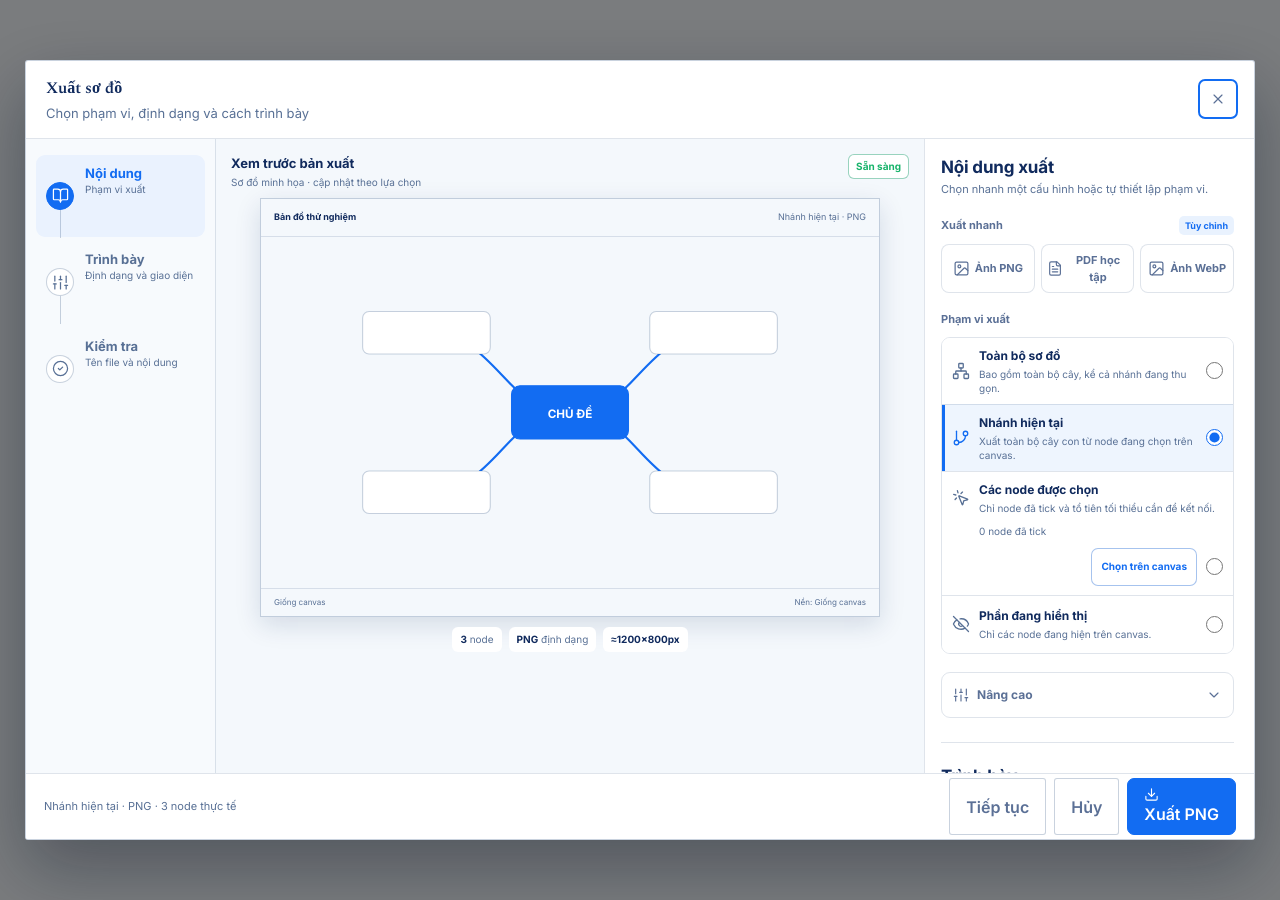
Test: Export Studio UX v2 › keeps visible-only semantics under Advanced instead of deleting it
Click the button "Nâng cao": click(1005, 694) [942,673,1233,717]
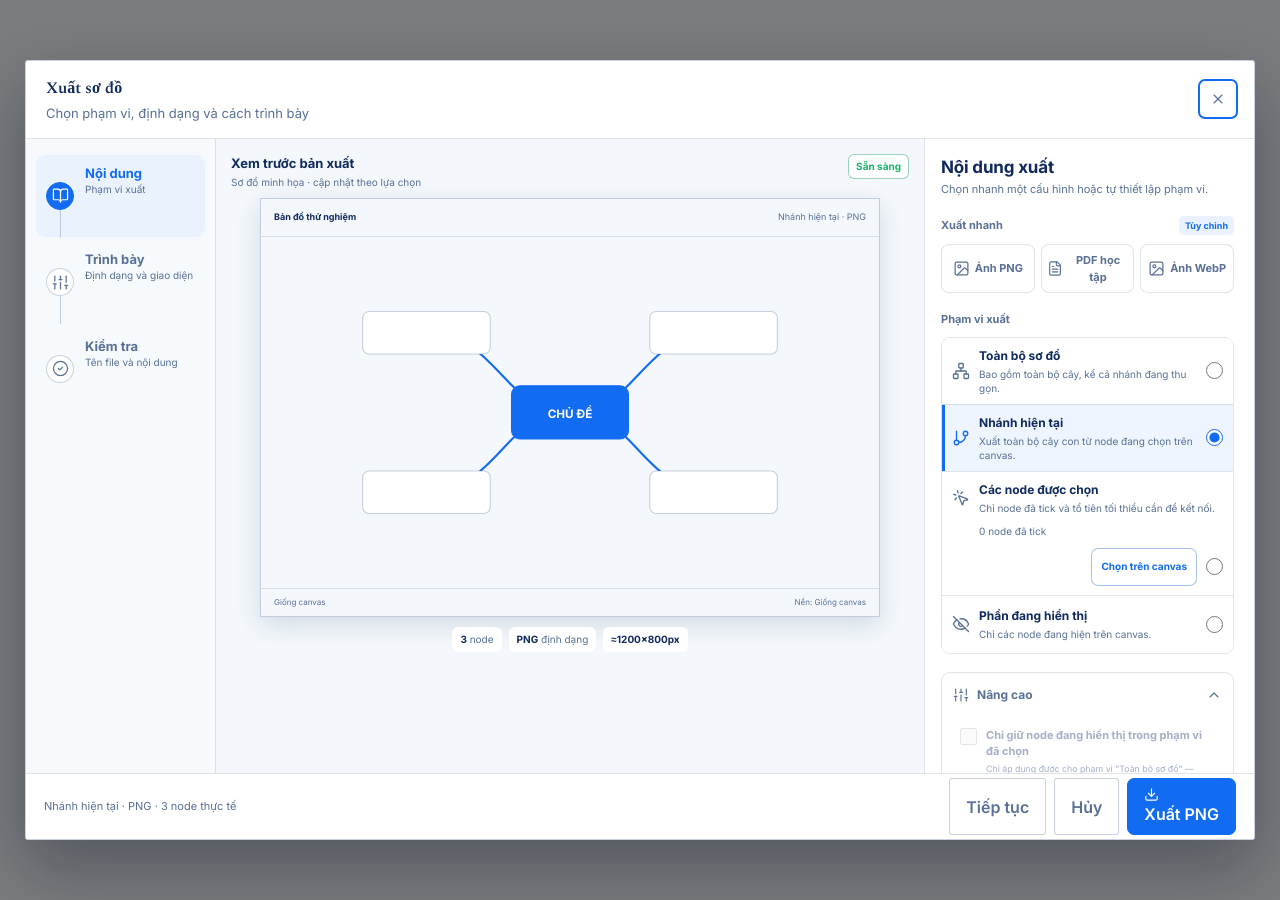
Check: the checkbox named "mm-export-visible-only" is shown, box [960,728,977,745]
Check: the label named "mm-export-visible-only" shows "trong phạm vi đã chọn", box [986,728,1202,758]
